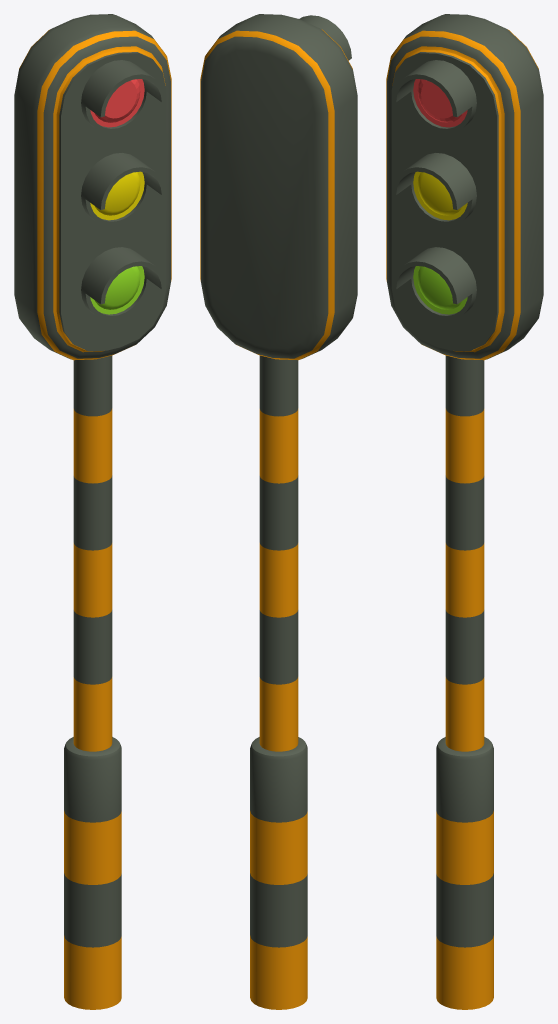
The model's file is TrafficLight2.fbx.
3 renders of one model, left to right at view 1: azimuth 30°, elevation 25°; view 2: azimuth 150°, elevation 25°; view 3: azimuth 330°, elevation 25°, orthographic.
Visible parts, largest first — view 1: Cylinder.002; view 2: Cylinder.002; view 3: Cylinder.002.
Part boxes in pixels (x1,y1,x2,y2): Cylinder.002: [14, 14, 171, 1009]; Cylinder.002: [200, 14, 357, 1009]; Cylinder.002: [386, 14, 543, 1009].
Size of the model in its own units: 40.82 by 278 by 29.69.
1 material, 1 textured.
